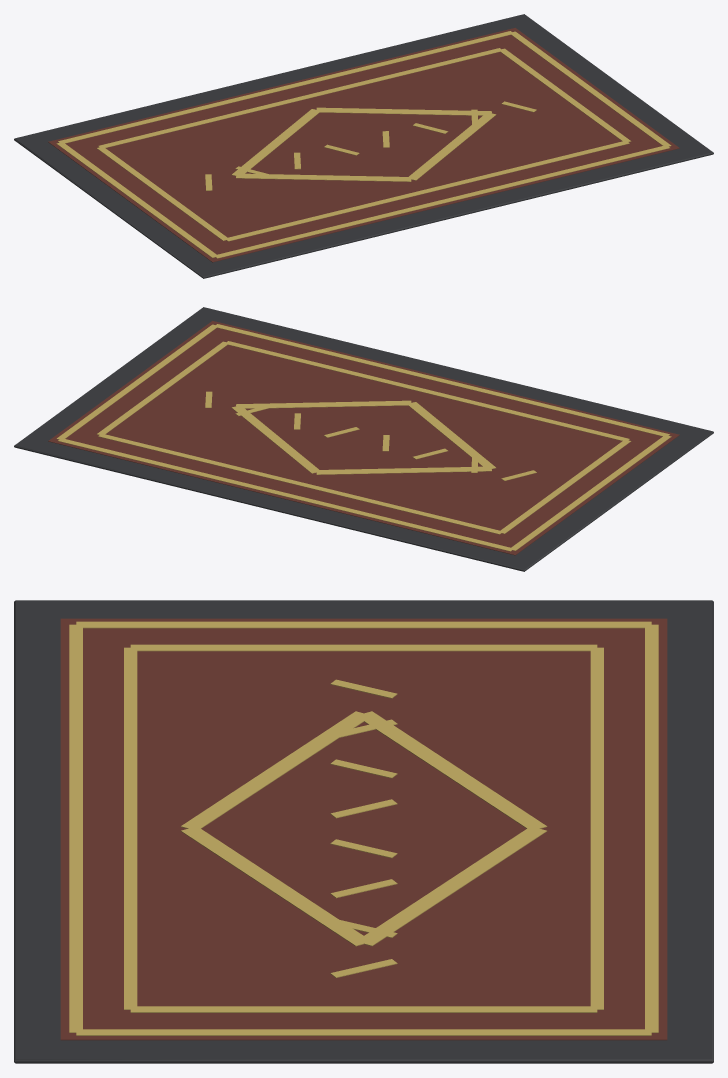
Rendered from int_rug.glb.
The picture shows the model from 3 angles, top to bottom: view 1: azimuth 30°, elevation 25°; view 2: azimuth 150°, elevation 25°; view 3: azimuth 270°, elevation 25°; orthographic projection. The views are drawn at different scales.
Visible parts, largest first — view 1: kit_int_rug_cloth, kit_int_rug_dark_cloth, kit_int_rug_pattern_cloth; view 2: kit_int_rug_cloth, kit_int_rug_dark_cloth, kit_int_rug_pattern_cloth; view 3: kit_int_rug_cloth, kit_int_rug_dark_cloth, kit_int_rug_pattern_cloth.
Part boxes in pixels (bbox=[...]): kit_int_rug_cloth: bbox=[48, 28, 679, 262]; kit_int_rug_dark_cloth: bbox=[14, 14, 713, 278]; kit_int_rug_pattern_cloth: bbox=[56, 31, 671, 258]; kit_int_rug_cloth: bbox=[48, 321, 679, 555]; kit_int_rug_dark_cloth: bbox=[14, 307, 713, 571]; kit_int_rug_pattern_cloth: bbox=[56, 324, 671, 551]; kit_int_rug_cloth: bbox=[60, 618, 667, 1040]; kit_int_rug_dark_cloth: bbox=[14, 600, 713, 1063]; kit_int_rug_pattern_cloth: bbox=[69, 621, 658, 1035].
Bounding box in the file's own units: 2.8 × 0.016 × 1.8.
